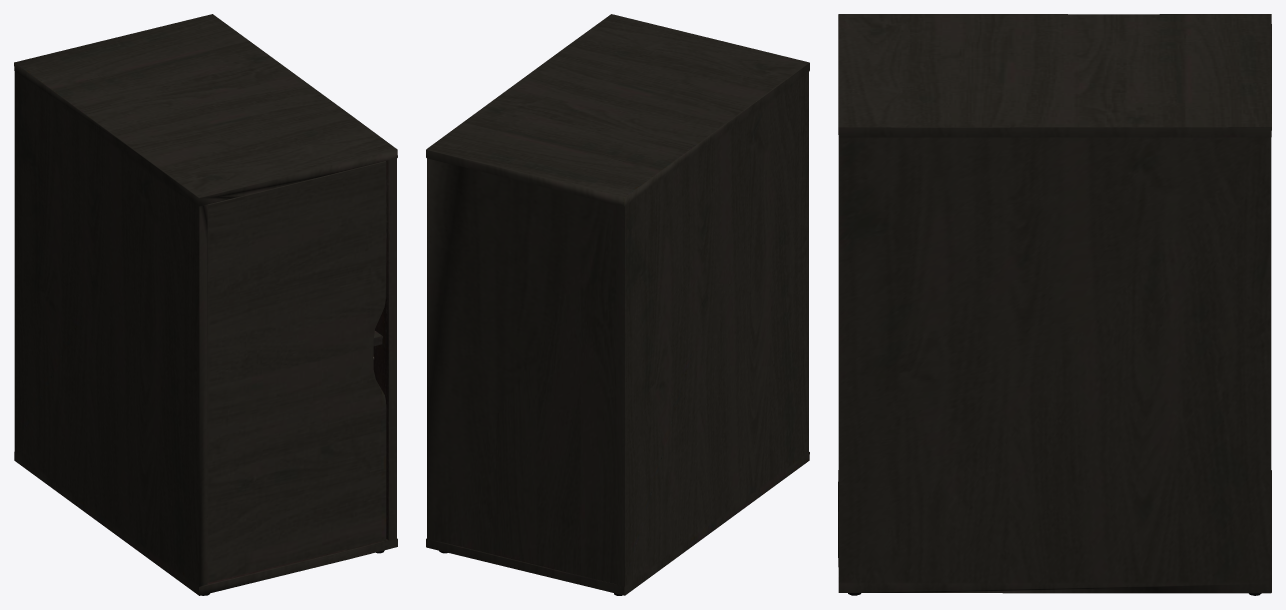
Rendered from ALEX_70563765.glb.
3 renders of one model, left to right at view 1: azimuth 30°, elevation 25°; view 2: azimuth 150°, elevation 25°; view 3: azimuth 270°, elevation 25°, orthographic. The views are drawn at different scales.
Parts seen in each view (by area): view 1: model; view 2: model; view 3: model.
Part boxes in pixels (x1,y1,x2,y2): model: (14,14,397,595); model: (426,14,809,595); model: (838,14,1271,595).
Bounding box in the file's own units: 0.3613 × 0.7006 × 0.5825.
2 materials, 2 textured.
